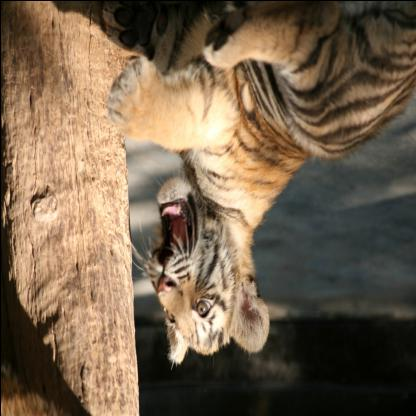tiger: (138, 160, 276, 368)
